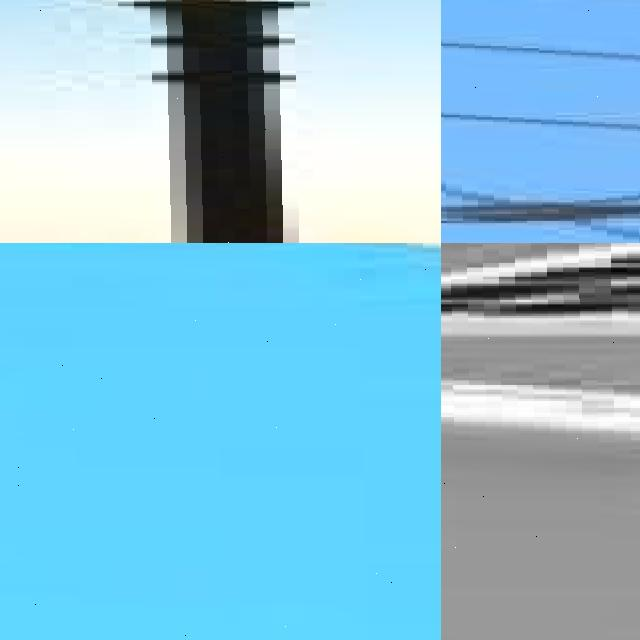street light: (0, 243, 441, 640), (0, 0, 441, 243), (441, 276, 640, 640), (441, 0, 640, 243)
